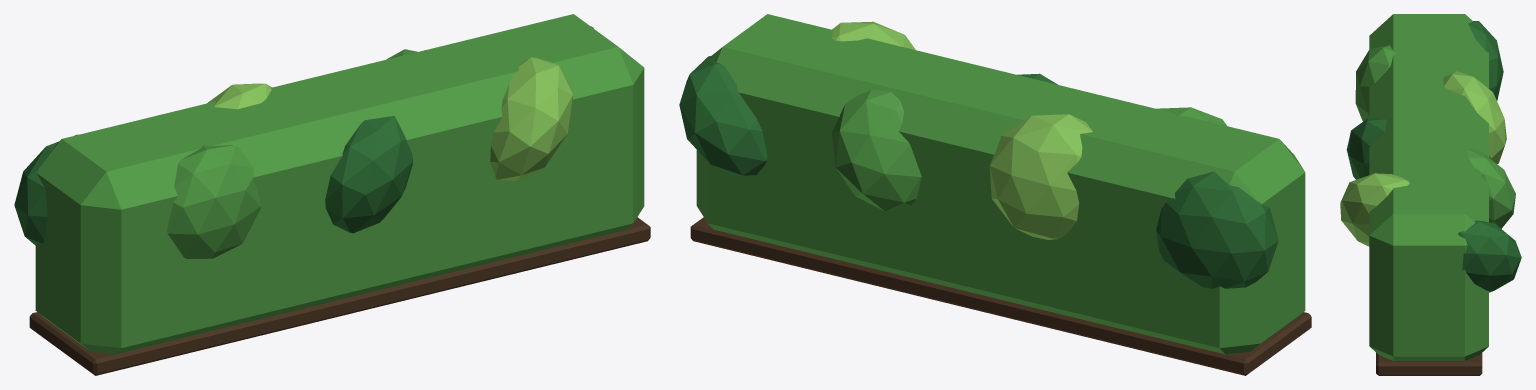
3 renders of one model, left to right at view 1: azimuth 30°, elevation 25°; view 2: azimuth 150°, elevation 25°; view 3: azimuth 270°, elevation 25°, orthographic. The views are drawn at different scales.
Parts seen in each view (by area): view 1: WK_TownFlora_FormalHedgeStraight_LOD0_High; view 2: WK_TownFlora_FormalHedgeStraight_LOD0_High; view 3: WK_TownFlora_FormalHedgeStraight_LOD0_High.
Boxes of the visible parts, x1,y1,x2,y2 form: WK_TownFlora_FormalHedgeStraight_LOD0_High: (14,14,650,375); WK_TownFlora_FormalHedgeStraight_LOD0_High: (679,14,1311,375); WK_TownFlora_FormalHedgeStraight_LOD0_High: (1340,14,1521,375).
Size of the model in its own units: 4.03 by 1.34 by 1.37.
